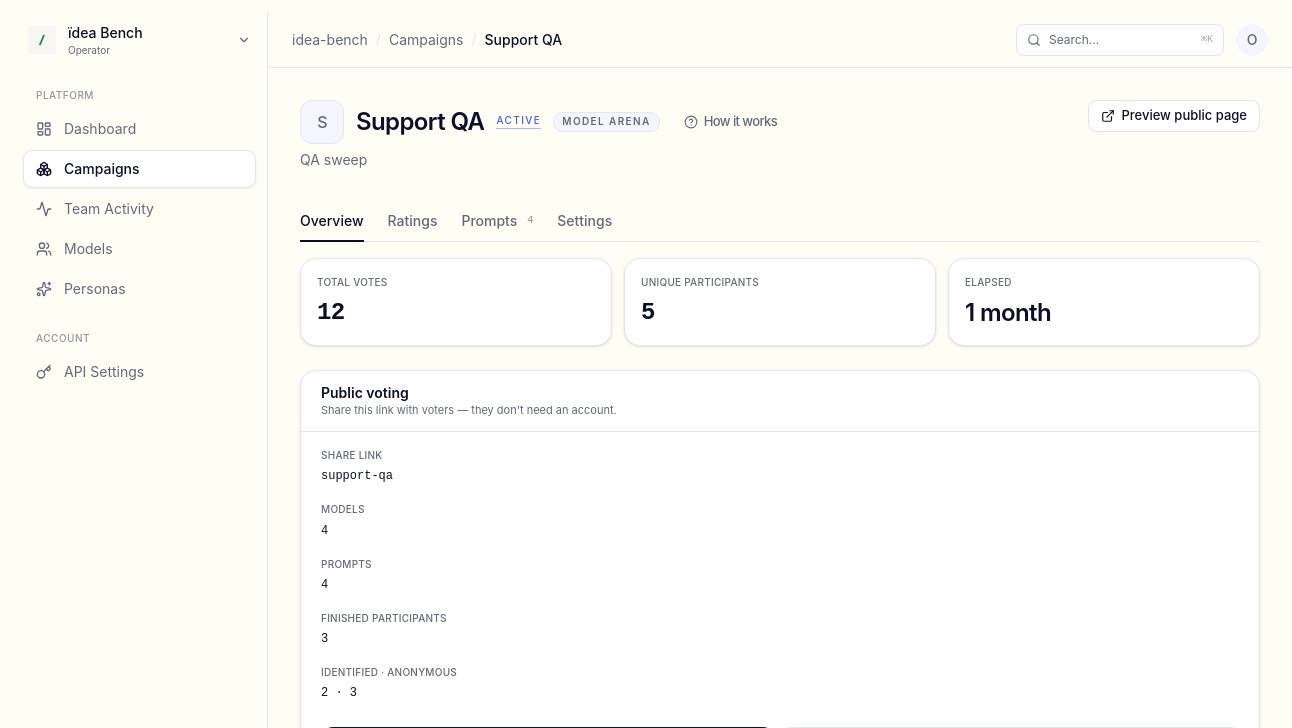
Scenario: CampaignDashboard › renders prompt text + tags + collapsible context on the Prompts tab
This screenshot has width=1292, height=728.
Click the tab "Prompts 4" at (497, 222), box [461,202,533,242]
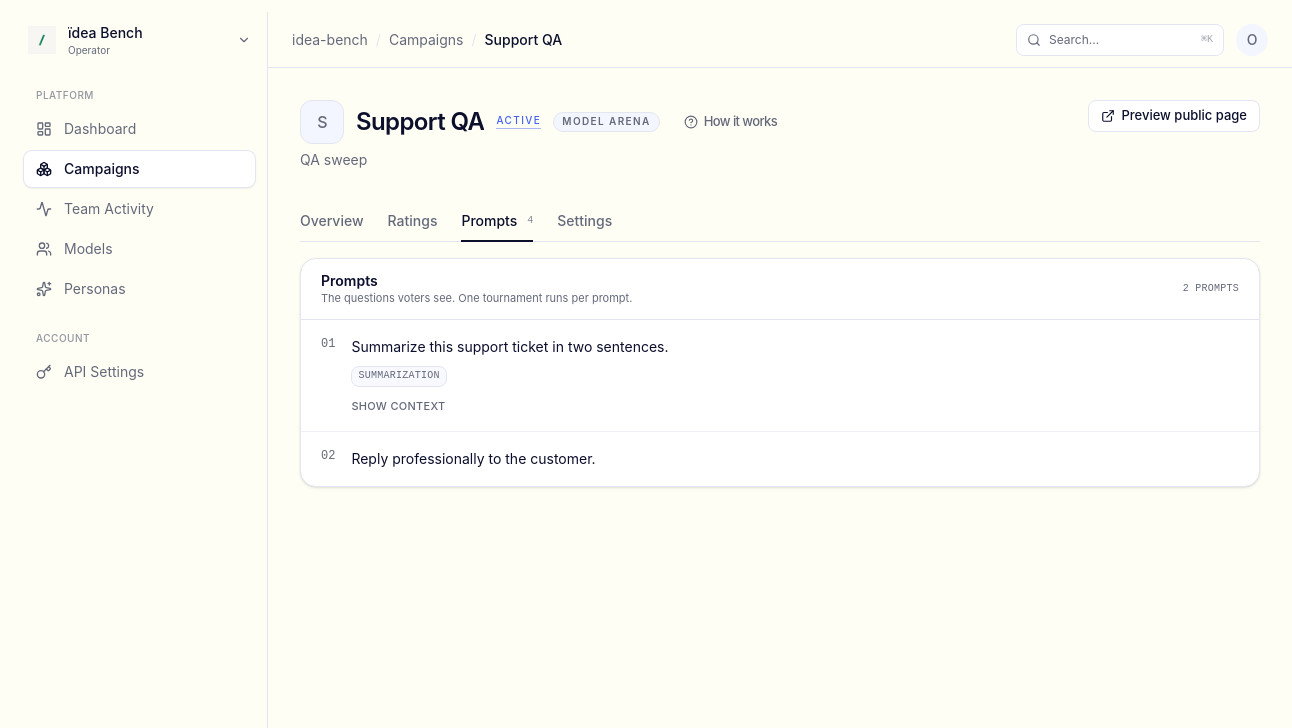
Check: the text "Summarize this support ticket in two sentences." is shown, box [351,338,668,355]
Check: the text "Reply professionally to the customer." is shown, box [351,450,596,467]
Check: the text "summarization" is shown, box [351,366,447,387]
Click the button "Show context" at (398, 407), box [351,399,445,414]
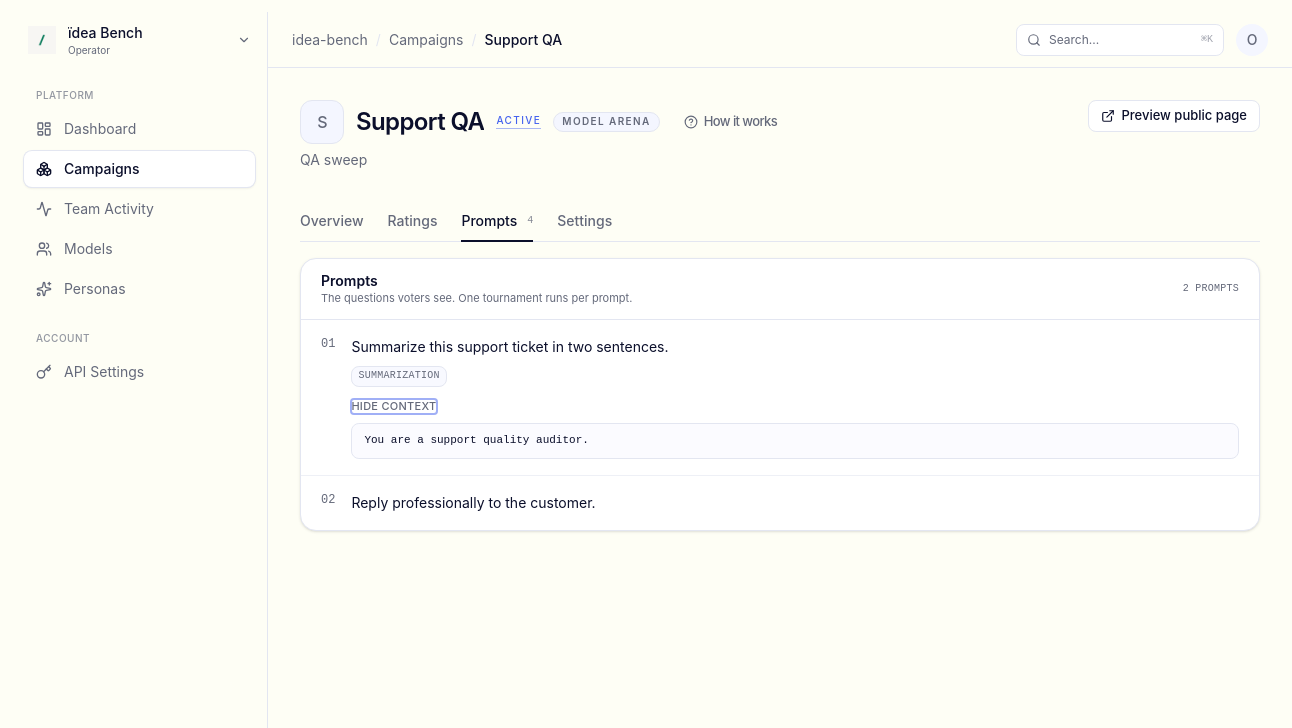
Check: the text "You are a support quality auditor." is shown, box [351,423,1239,459]
